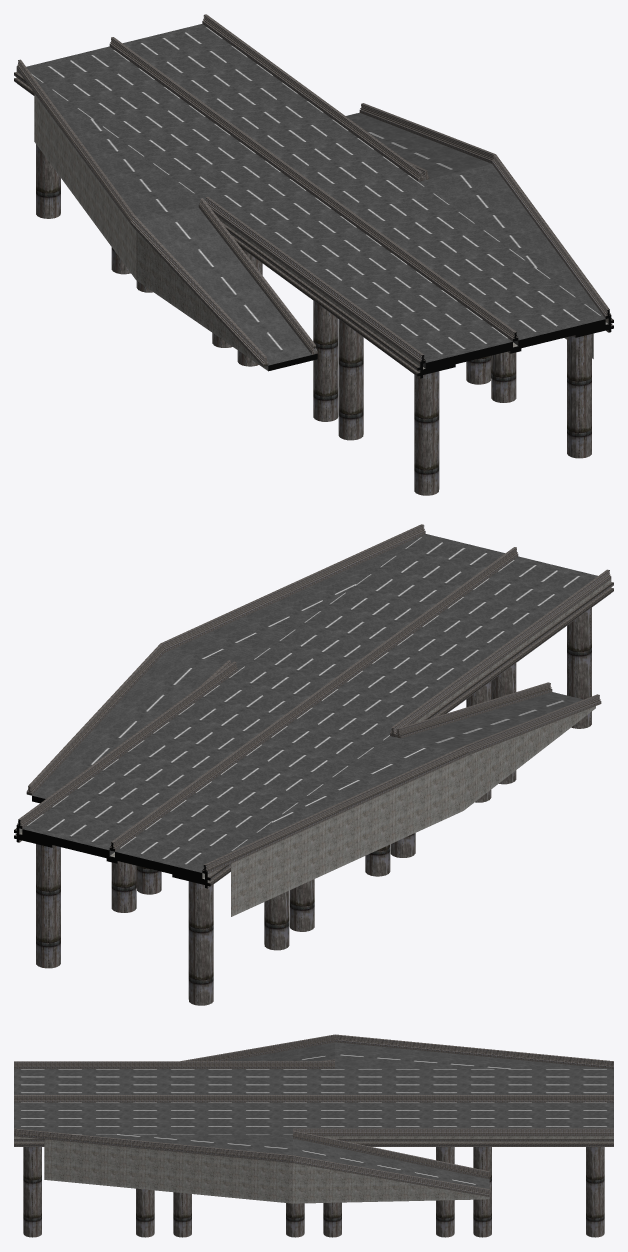
Rendered from HighwayJunct2_off_high.fbx.
3 renders of one model, top to bottom at view 1: azimuth 30°, elevation 25°; view 2: azimuth 150°, elevation 25°; view 3: azimuth 270°, elevation 25°, orthographic. The views are drawn at different scales.
Parts seen in each view (by area): view 1: materialE150, materialD150, materialA150, materialB150, materialC150; view 2: materialE150, materialD150, materialA150, materialB150, materialC150; view 3: materialE150, materialD150, materialB150, materialA150.
Boxes of the visible parts, <box> form: materialE150: <box>26,24,605,368</box>; materialD150: <box>14,14,613,495</box>; materialA150: <box>33,76,605,365</box>; materialB150: <box>16,69,608,372</box>; materialC150: <box>268,309,613,378</box>; materialE150: <box>22,534,597,872</box>; materialD150: <box>14,524,613,1005</box>; materialA150: <box>32,534,583,851</box>; materialB150: <box>19,579,611,916</box>; materialC150: <box>14,795,210,888</box>; materialE150: <box>14,1069,613,1134</box>; materialD150: <box>14,1034,613,1237</box>; materialB150: <box>14,1136,613,1203</box>; materialA150: <box>76,1042,611,1189</box>.
Size of the model in its own units: 99.2 by 41.6 by 205.
